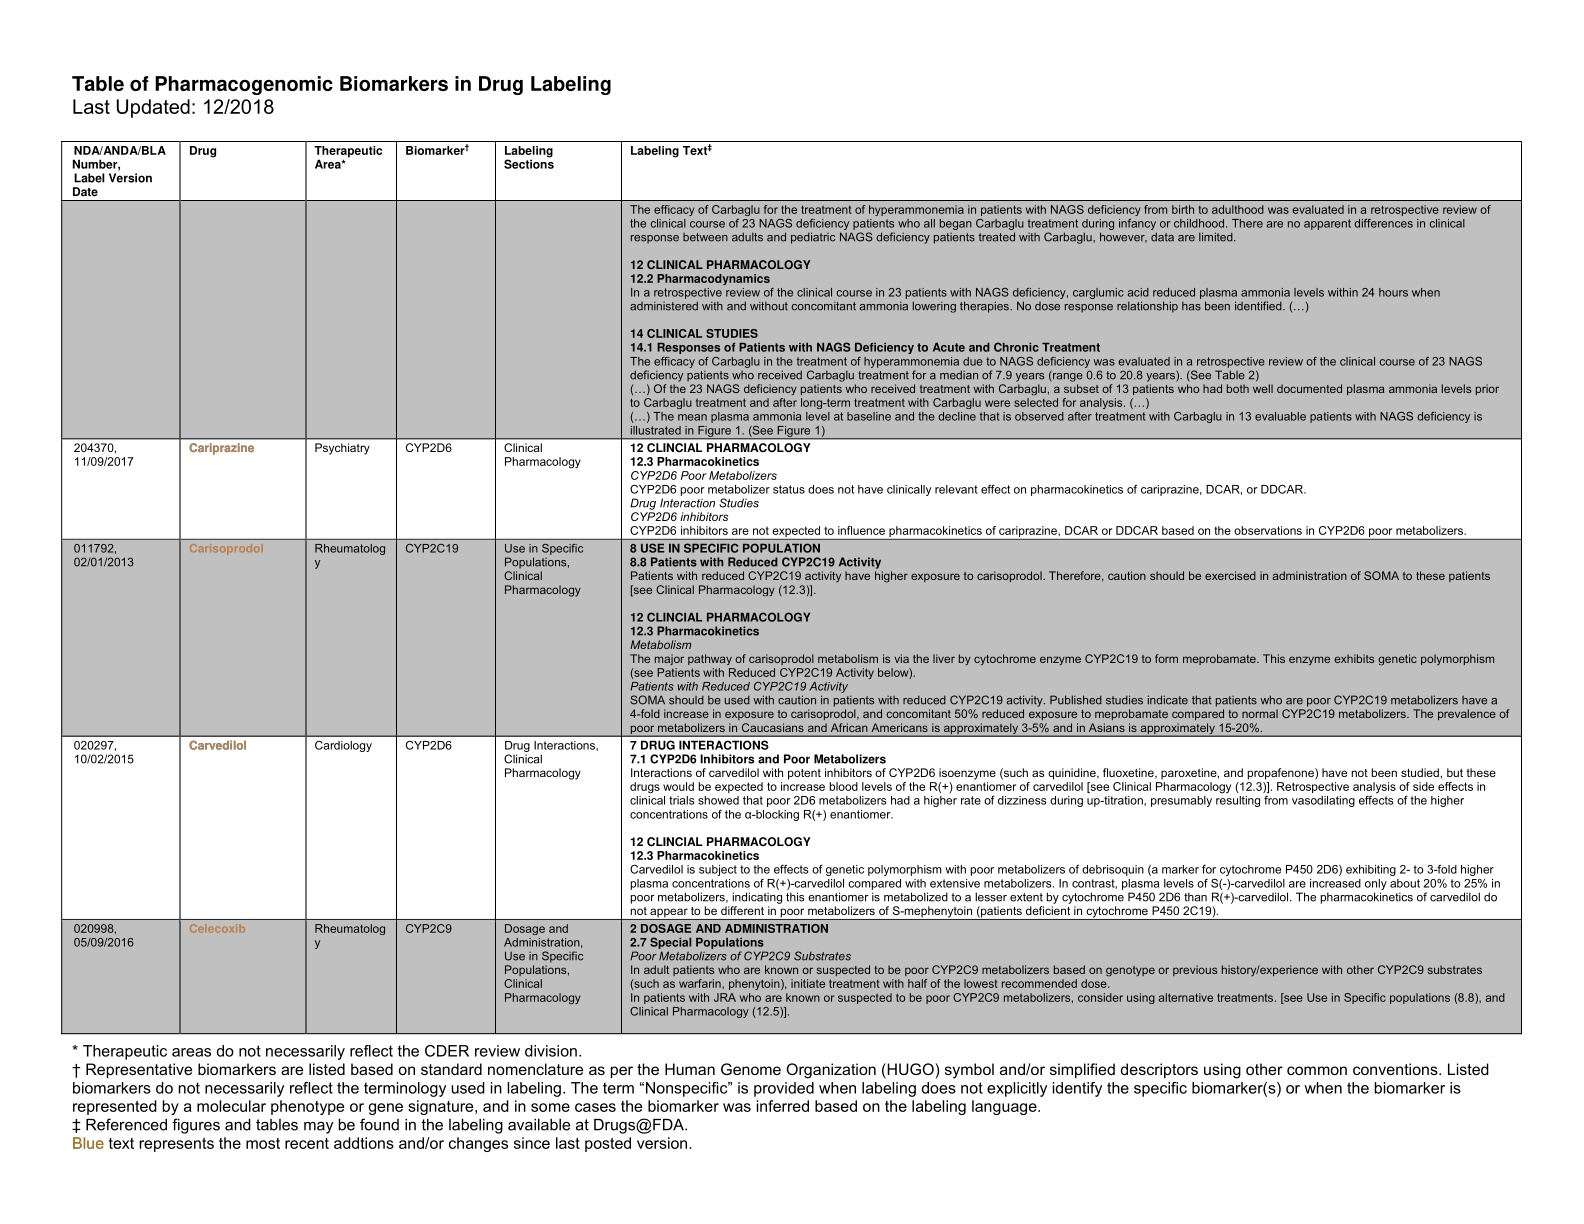full_lined: (60, 140, 1522, 1035)
